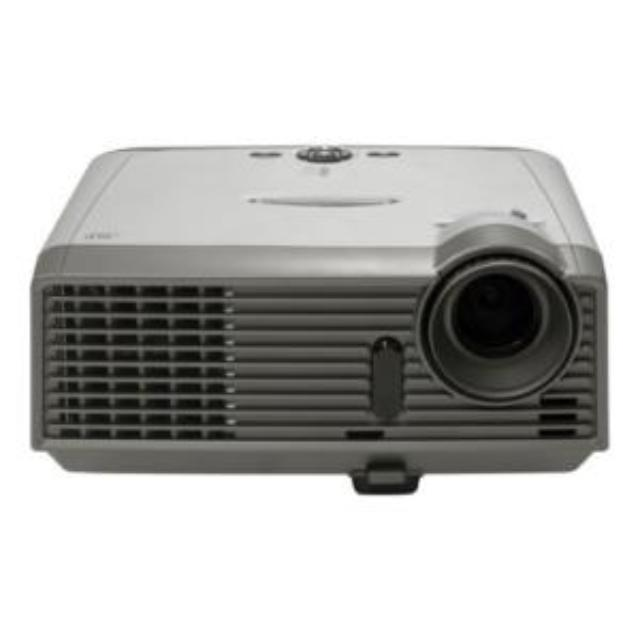Projector: (29, 142, 616, 498)
